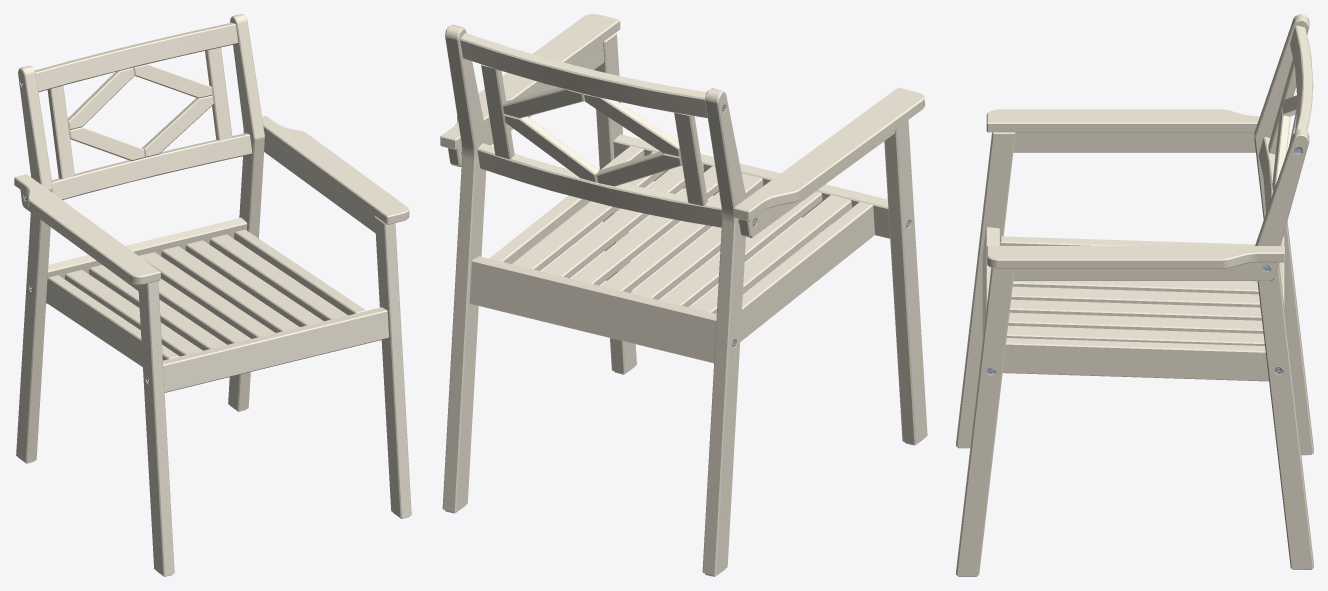
File: bondholmen_krzeso_z_podokietnikami_ogr_10558173.glb
3 views of the same model, side by side, from view 1: azimuth 30°, elevation 25°; view 2: azimuth 150°, elevation 25°; view 3: azimuth 270°, elevation 25° (orthographic). The views are drawn at different scales.
Parts seen in each view (by area): view 1: bondholmen_krzeso_z_podokietnikami_ogr_10558173; view 2: bondholmen_krzeso_z_podokietnikami_ogr_10558173; view 3: bondholmen_krzeso_z_podokietnikami_ogr_10558173.
Part boxes in pixels (bbox=[...]): bondholmen_krzeso_z_podokietnikami_ogr_10558173: bbox=[14, 14, 411, 576]; bondholmen_krzeso_z_podokietnikami_ogr_10558173: bbox=[440, 14, 927, 576]; bondholmen_krzeso_z_podokietnikami_ogr_10558173: bbox=[956, 14, 1313, 576].
Bounding box in the file's own units: 0.621 × 0.8395 × 0.6233.
1 material, 1 textured.
